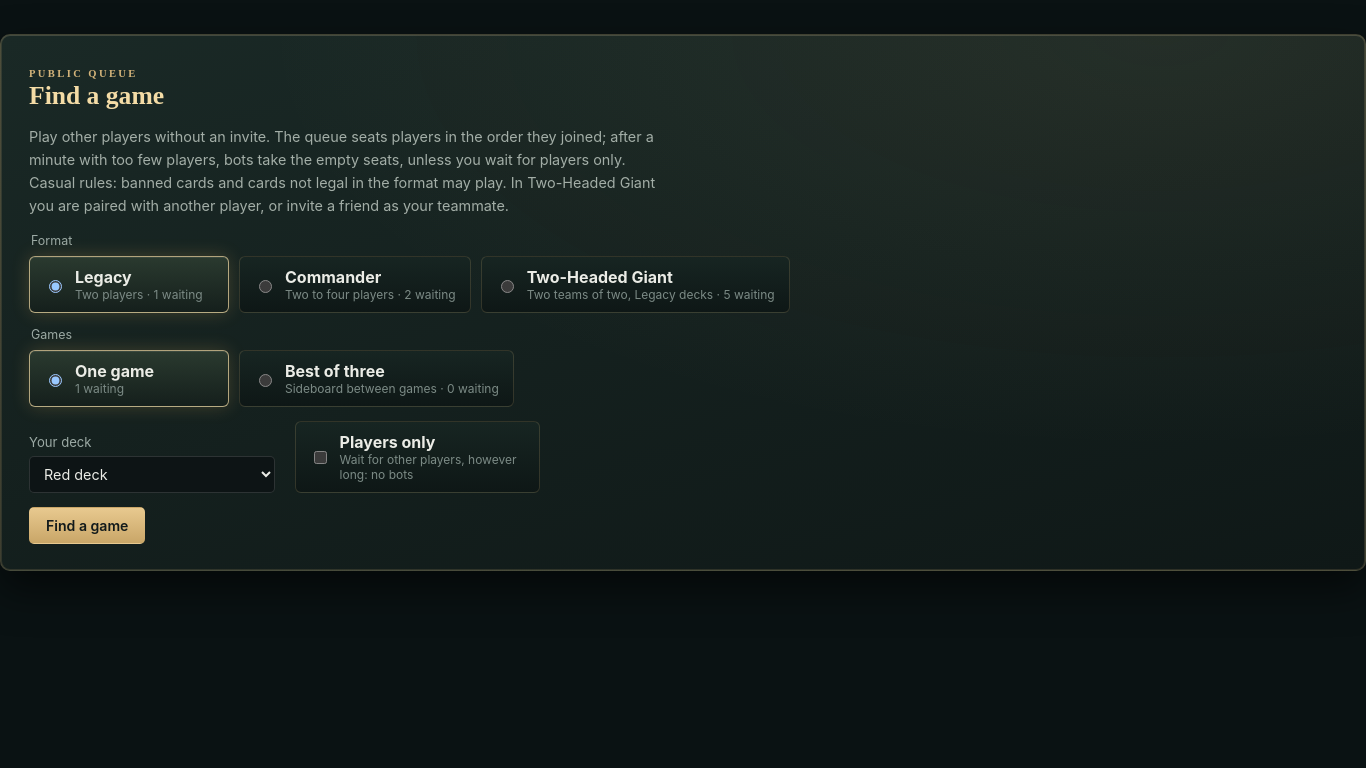
Test case: Two-Headed Giant's queue (v0.5.1) › says why the friends did not come, and asks again
Click the radio button labelled "Two-Headed Giant Two teams of two, Legacy decks · 5 waiting" at coordinates (507, 286), box [501, 280, 514, 293]
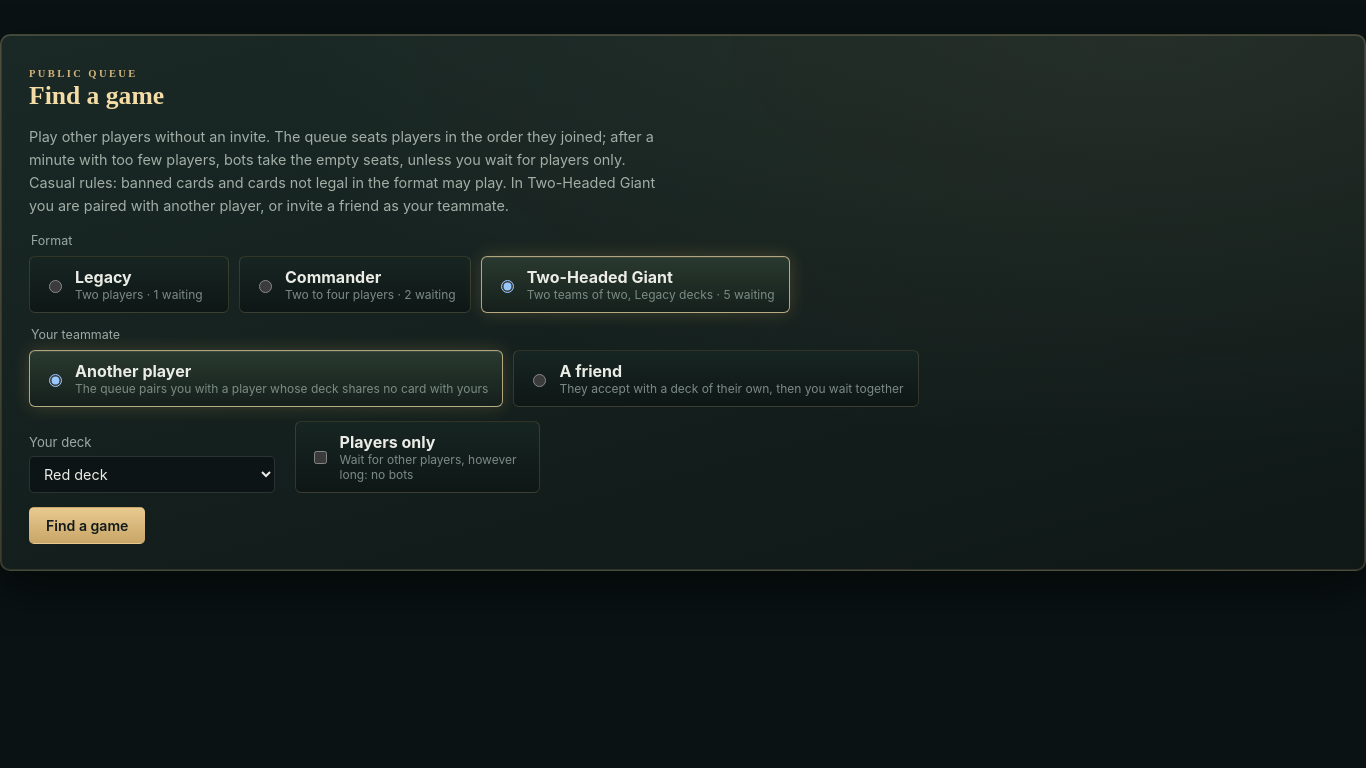
Click the radio button labelled "A friend" at coordinates (540, 380), box [533, 374, 546, 387]
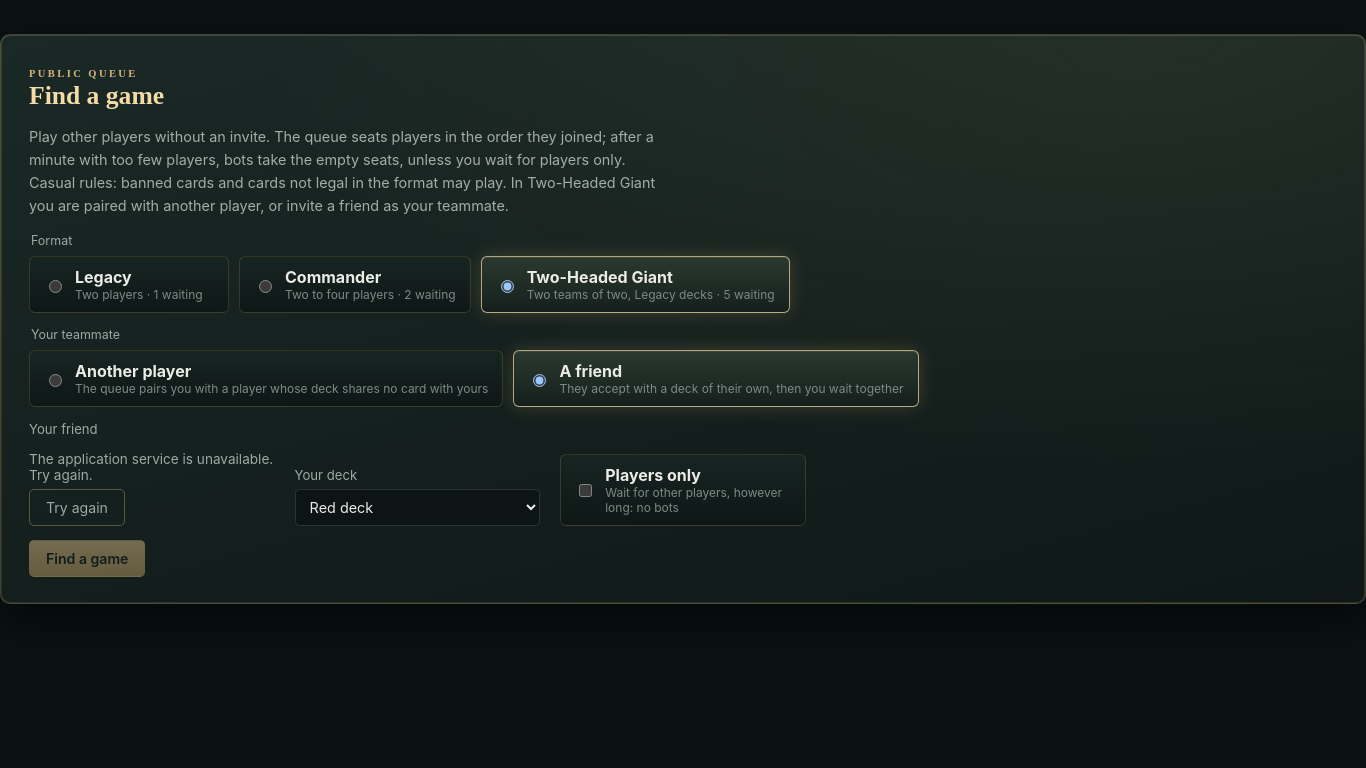
Expected: the message reads "The application service is unavailable. Try again.", [29, 451, 273, 483]
Expected: the button "Find a game" is disabled, [29, 540, 145, 577]
Wanted again, the friends are asked for again.
Click the radio button labelled "Another player" at coordinates (56, 380), box [49, 374, 62, 387]
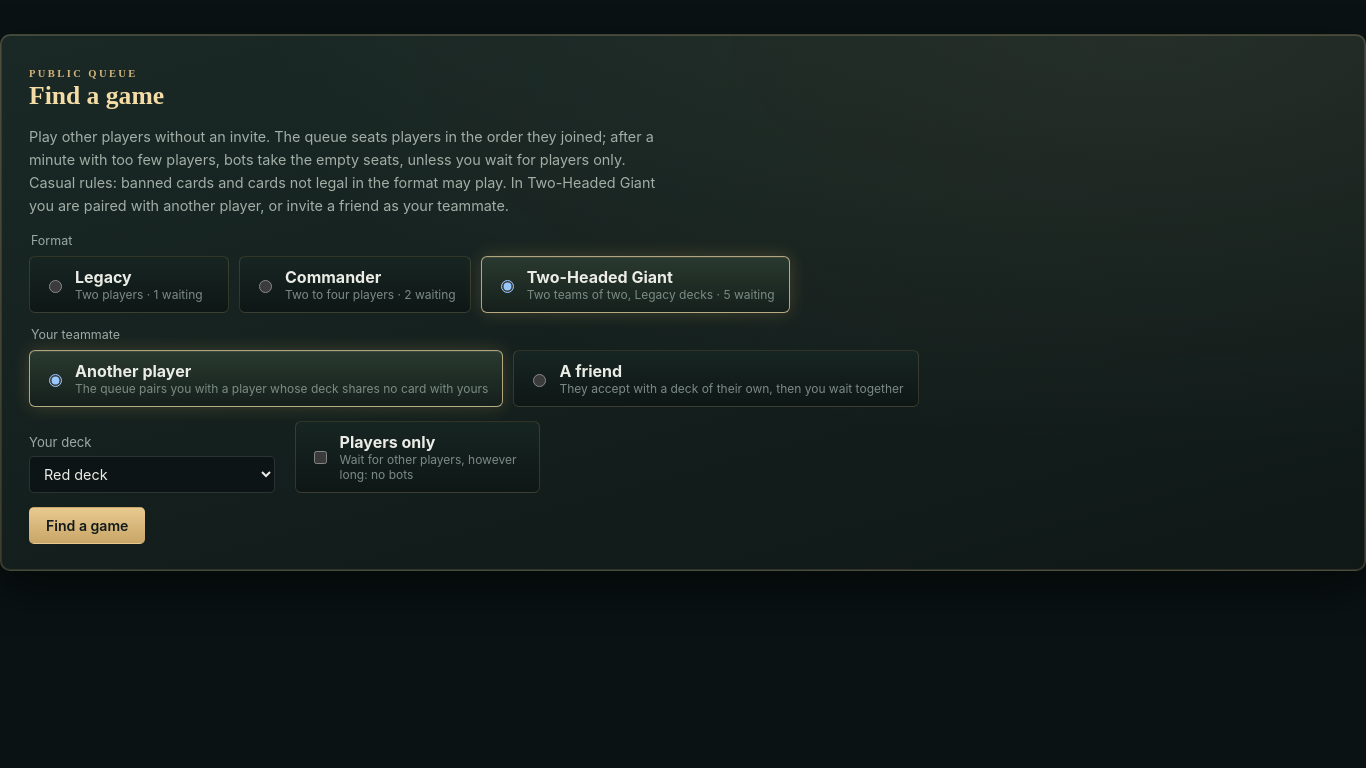
Click the radio button labelled "A friend" at coordinates (540, 380), box [533, 374, 546, 387]
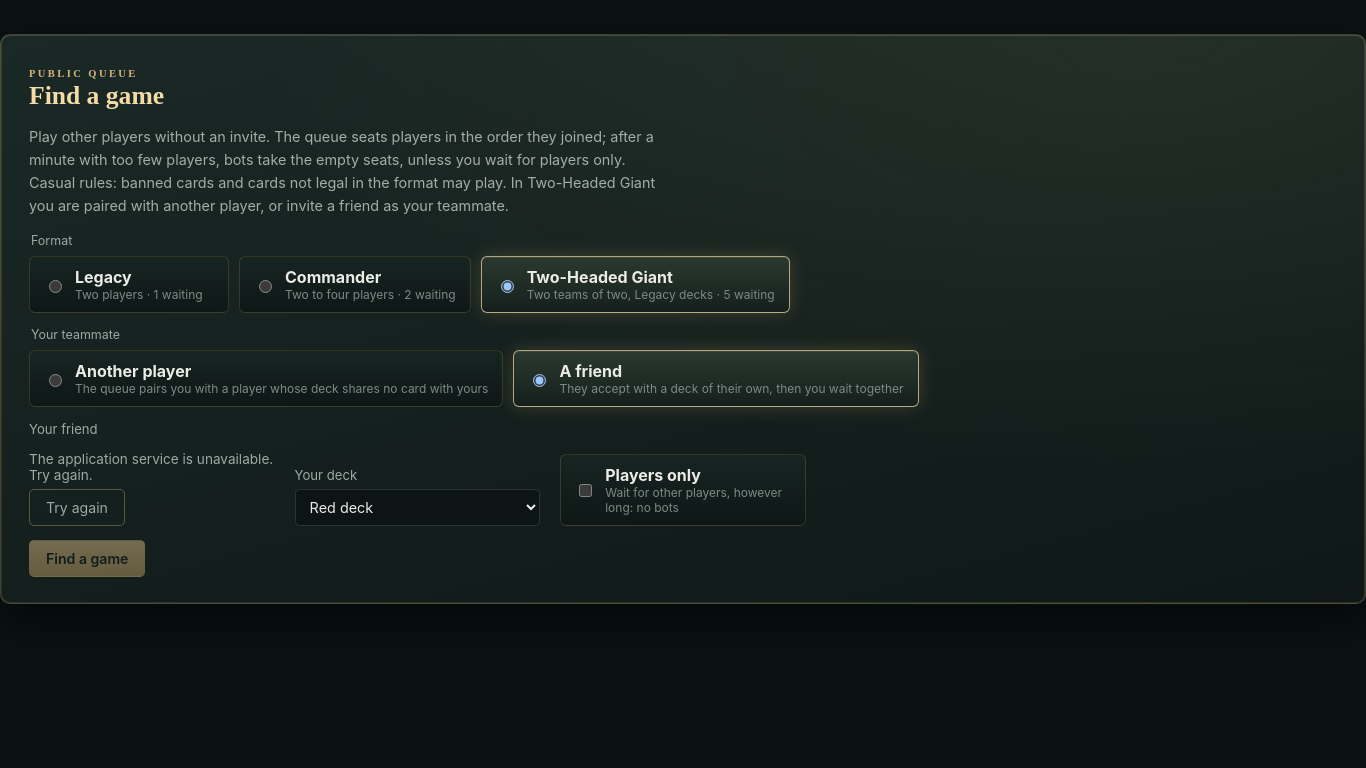
Click the button "Try again" at coordinates (77, 508), box [29, 489, 125, 526]
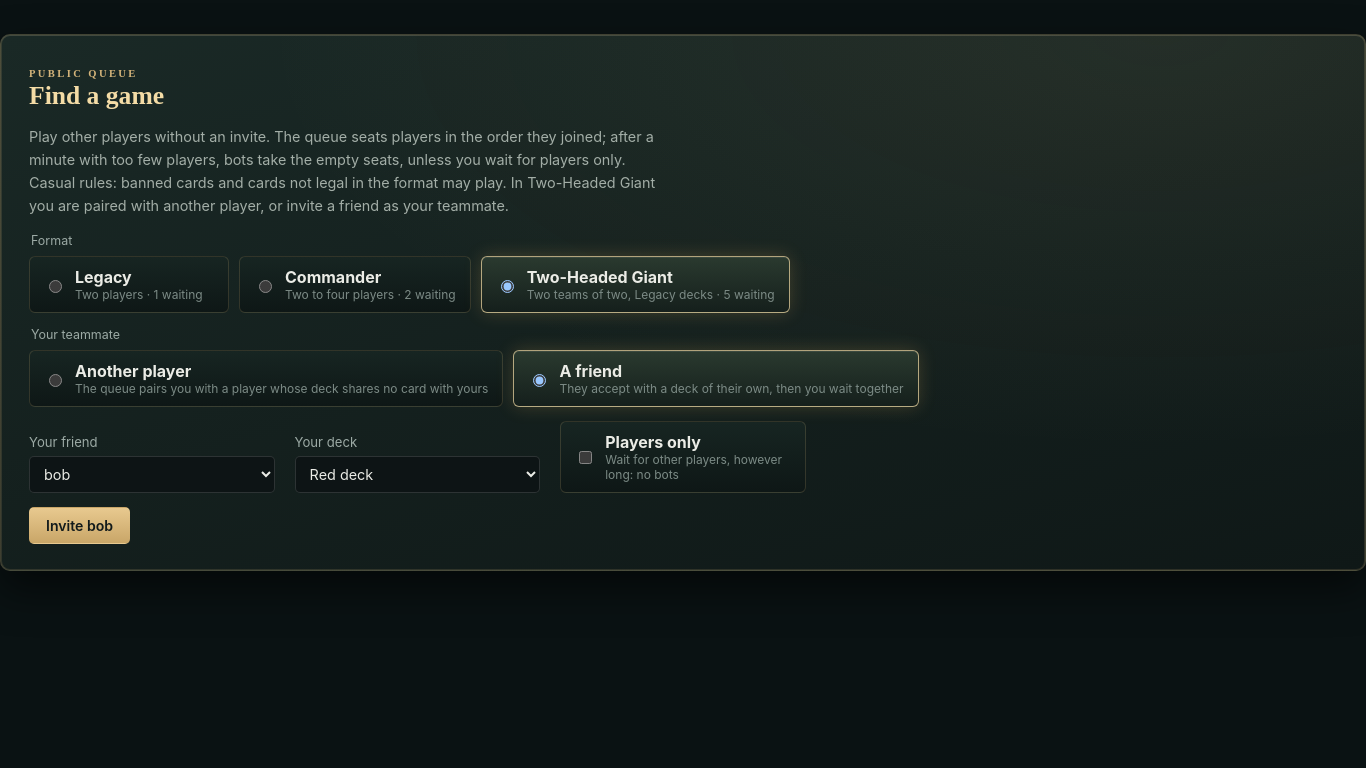
Expected: the message "The application service is unavailable. Try again." is gone
Expected: the dropdown labelled "Your friend" shows "bob", [29, 456, 275, 493]
Expected: the button "Invite bob" is enabled, [29, 507, 130, 544]
